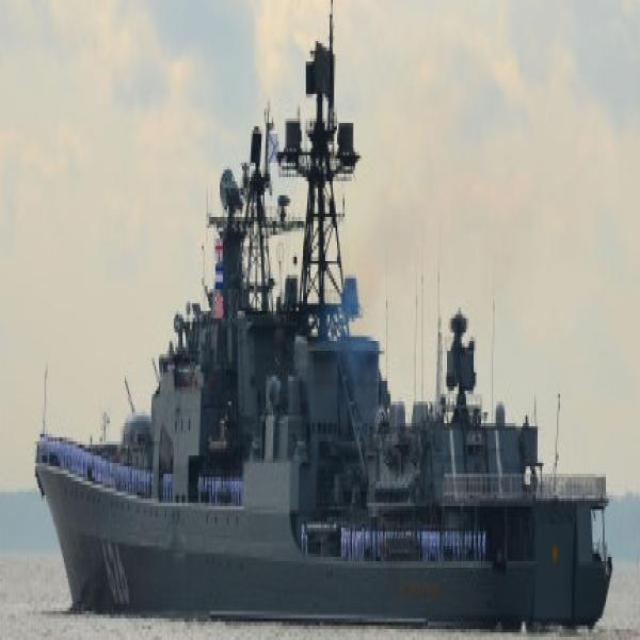Military: (36, 0, 611, 626)
